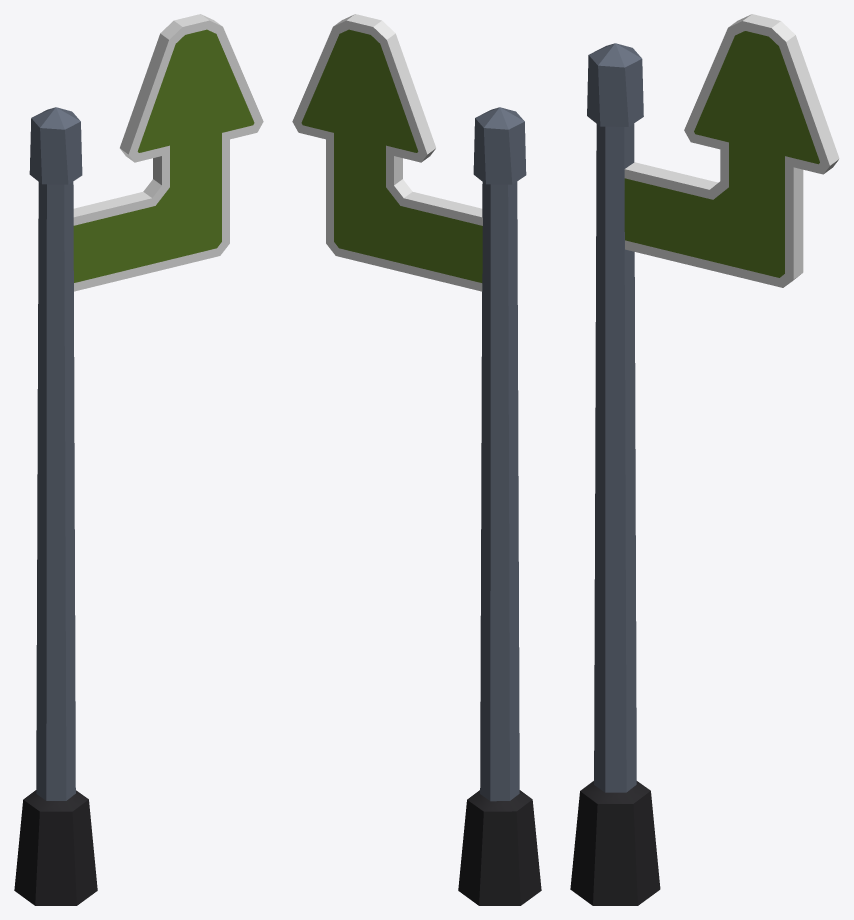
File: Road Sign 4.fbx
3 views of the same model, side by side, from view 1: azimuth 30°, elevation 25°; view 2: azimuth 150°, elevation 25°; view 3: azimuth 330°, elevation 25° (orthographic). The views are drawn at different scales.
Visible parts, largest first — view 1: Road_Sign_04; view 2: Road_Sign_04; view 3: Road_Sign_04.
Boxes of the visible parts, bbox=[...] form: Road_Sign_04: bbox=[14, 14, 263, 905]; Road_Sign_04: bbox=[292, 14, 541, 905]; Road_Sign_04: bbox=[570, 14, 839, 905].
Bounding box in the file's own units: 69.77 × 238 × 21.5.
